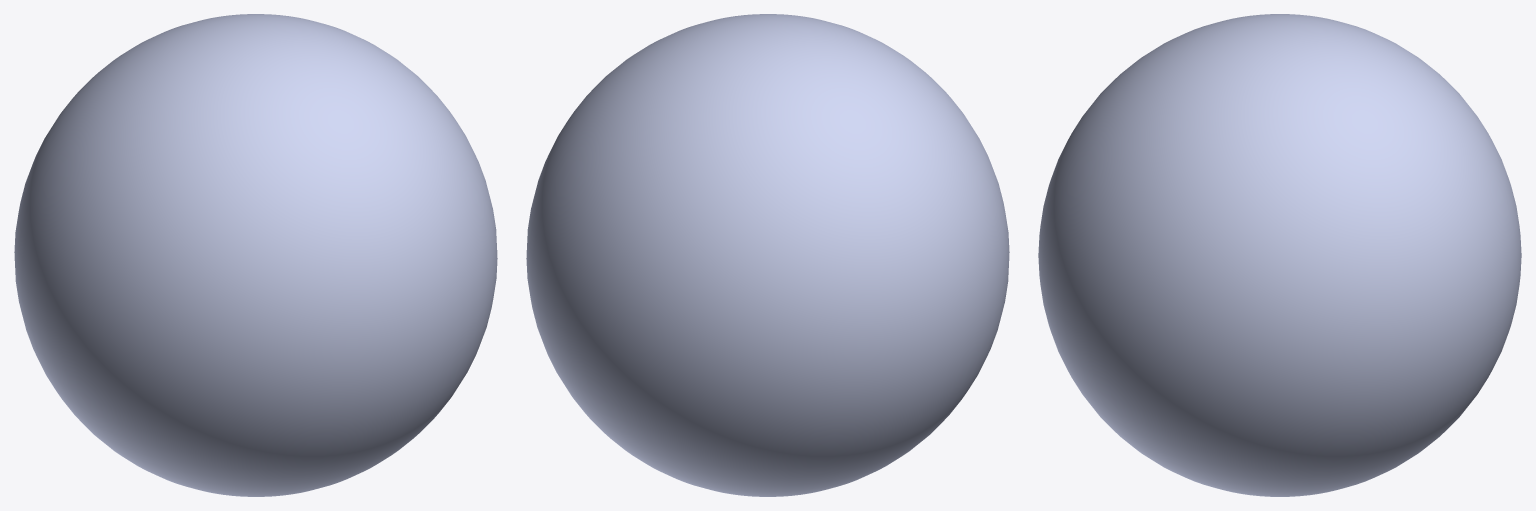
File: rolamento.dae
3 renders of one model, left to right at view 1: azimuth 30°, elevation 25°; view 2: azimuth 150°, elevation 25°; view 3: azimuth 270°, elevation 25°, orthographic.
Parts seen in each view (by area): view 1: node_b70e2ee0_f710_4c6c_8207_c7139b176805_mesh0; view 2: node_b70e2ee0_f710_4c6c_8207_c7139b176805_mesh0; view 3: node_b70e2ee0_f710_4c6c_8207_c7139b176805_mesh0.
Boxes of the visible parts, x1,y1,x2,y2 form: node_b70e2ee0_f710_4c6c_8207_c7139b176805_mesh0: (14, 14, 497, 496); node_b70e2ee0_f710_4c6c_8207_c7139b176805_mesh0: (526, 14, 1009, 496); node_b70e2ee0_f710_4c6c_8207_c7139b176805_mesh0: (1038, 14, 1521, 496).
Bounding box in the file's own units: 0.006 × 0.006 × 0.006.
